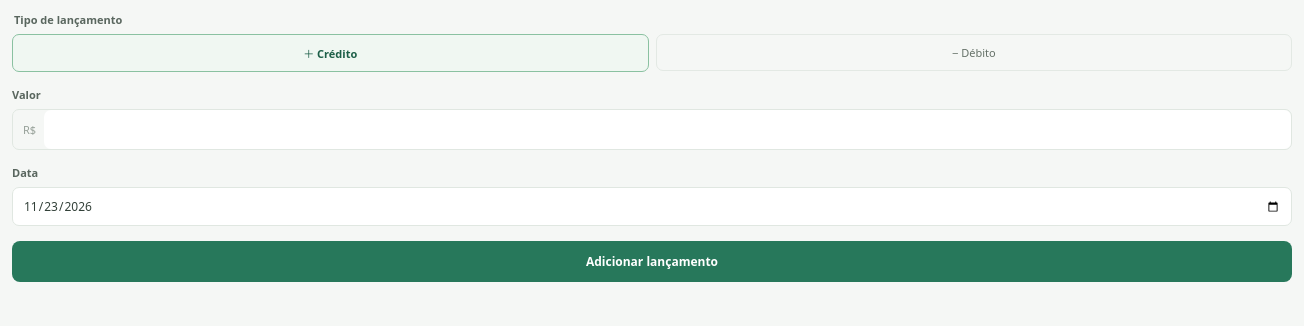
Scenario: LancamentoForm › exibe confirmação e limpa o formulário após sucesso
The width and height of the screenshot is (1304, 326).
Type "25" into the number field labelled "Valor" at (668, 130), box [44,110,1291,149]
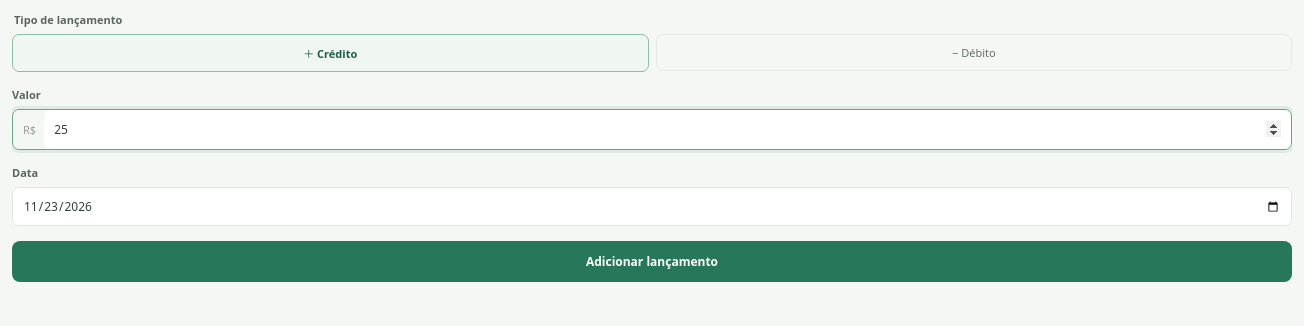
Click the button "Adicionar lançamento" at (652, 262), box [12,241,1292,282]
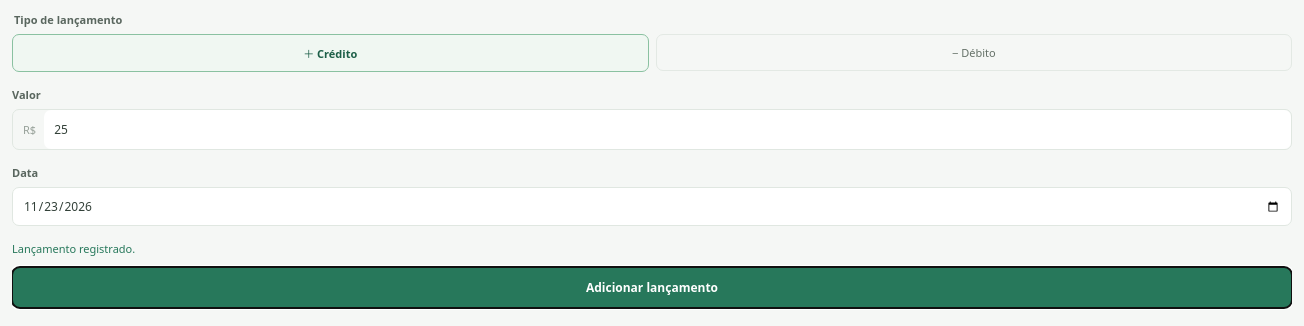
Expected: the message reads "Lançamento registrado.", [12,241,135,256]
